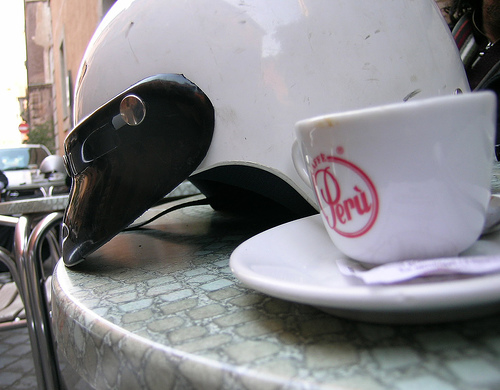helmet: (66, 3, 496, 201)
